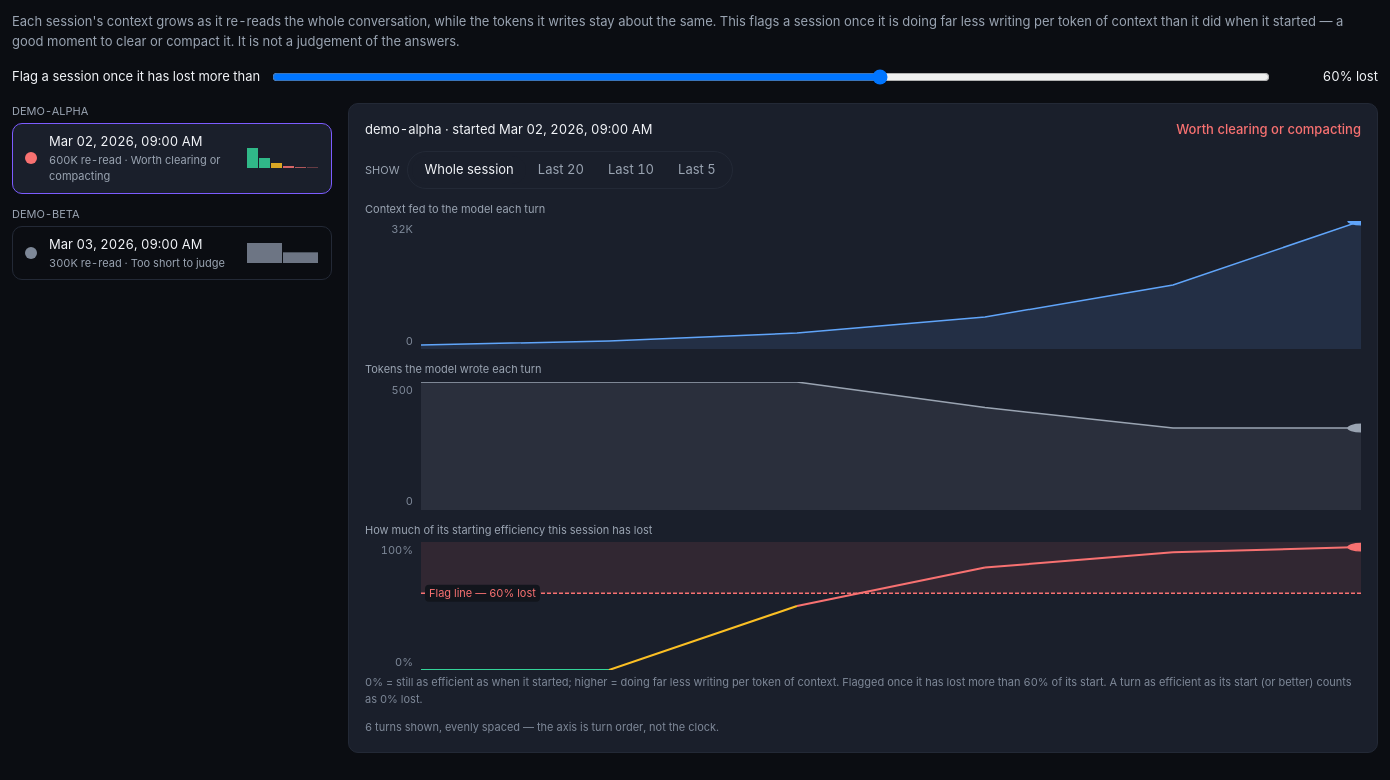
Test: A-12 — Session efficiency panel › shows the too-short session its own plain-words explanation, never a red curve
Note: Select the short (beta) session.
Click the button with test id "session-trajectory-row": (172, 253) x1=12 y1=226 x2=332 y2=280
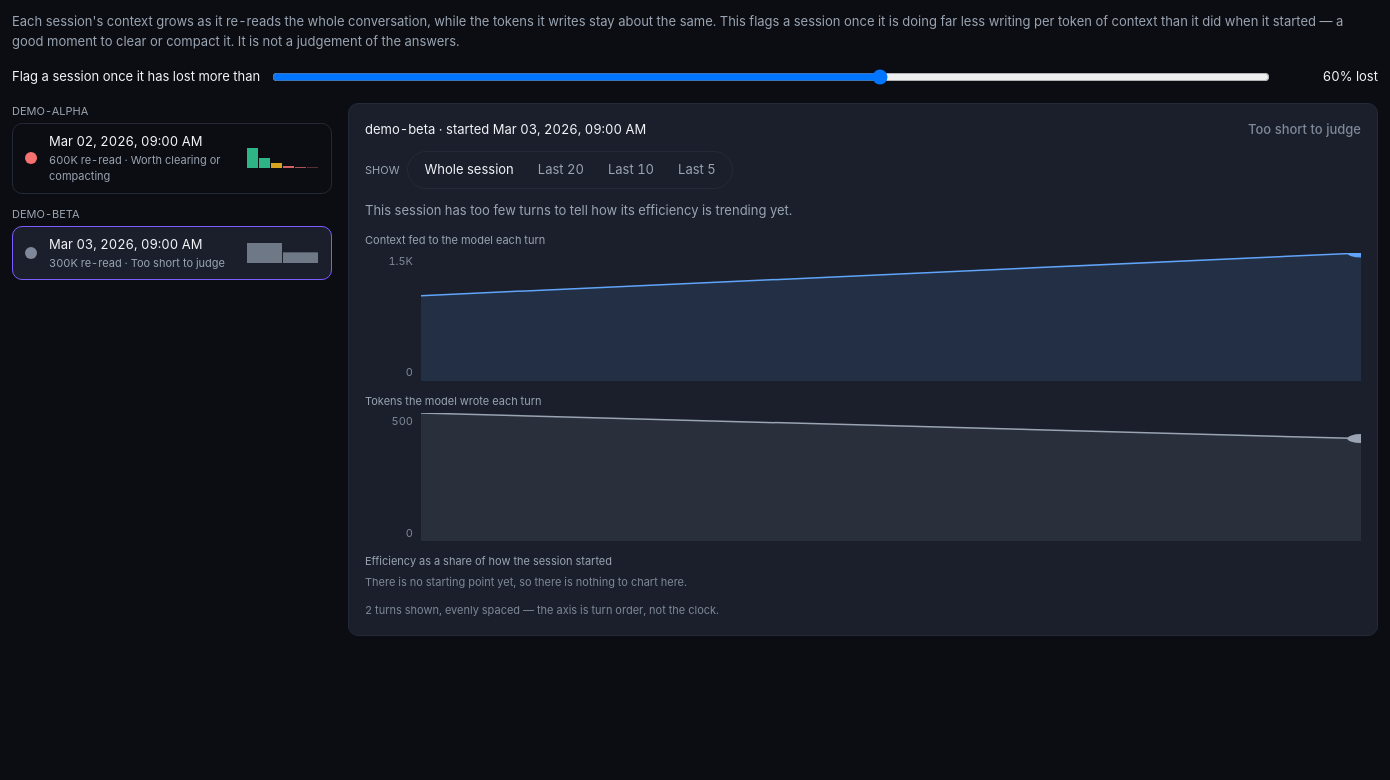
Expected: the text with test id "session-trajectory-detail-too-short" is shown, x1=365 y1=202 x2=792 y2=218
Expected: the element with test id "session-trajectory-detail" shows "Too short to judge", x1=1248 y1=120 x2=1361 y2=136
